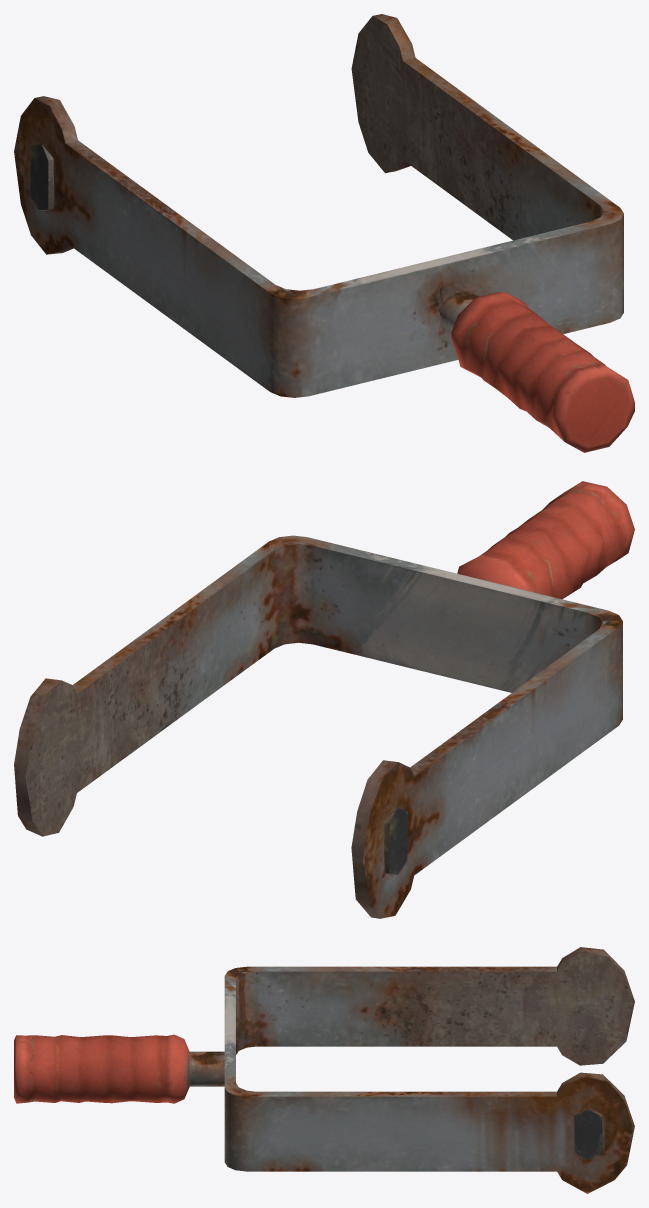
File: SM_Switch_A_Lever.glb
The picture shows the model from 3 angles, top to bottom: view 1: azimuth 30°, elevation 25°; view 2: azimuth 150°, elevation 25°; view 3: azimuth 270°, elevation 25°; orthographic projection. The views are drawn at different scales.
Visible parts, largest first — view 1: SM_Switch_A_Lever; view 2: SM_Switch_A_Lever; view 3: SM_Switch_A_Lever.
Part boxes in pixels (bbox=[...]): SM_Switch_A_Lever: bbox=[14, 14, 634, 452]; SM_Switch_A_Lever: bbox=[14, 481, 634, 918]; SM_Switch_A_Lever: bbox=[14, 947, 634, 1193].
Size of the model in its own units: 0.3516 by 0.1449 by 0.6928.
1 material, 1 textured.
